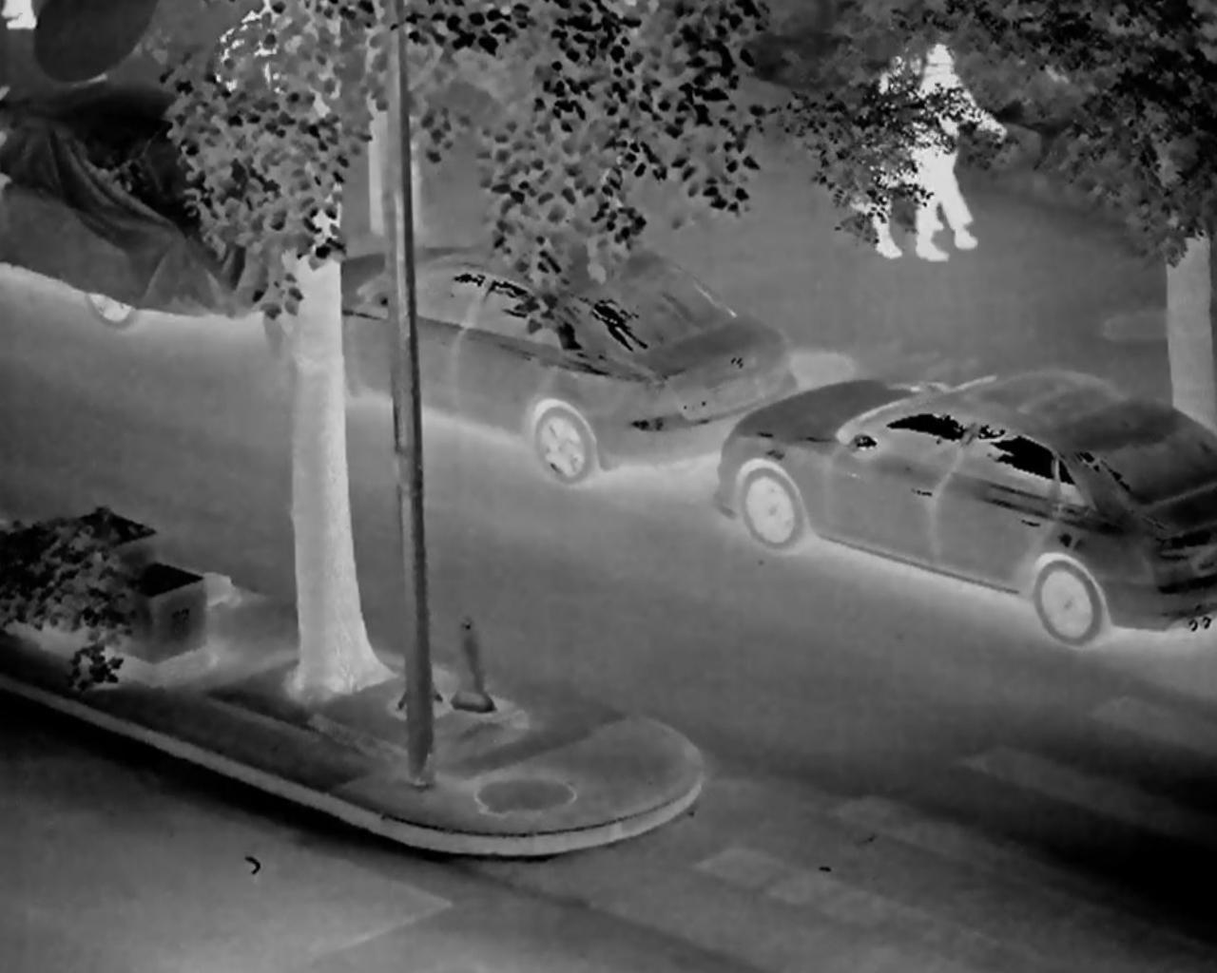person: (918, 40, 1005, 258), (862, 50, 937, 272)
